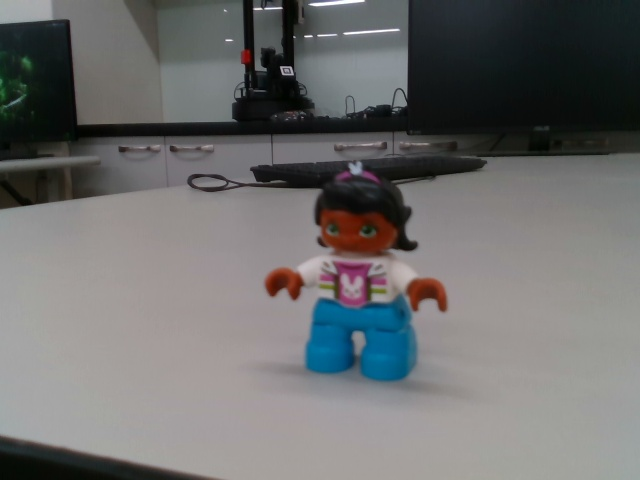people: (262, 157, 452, 384)
